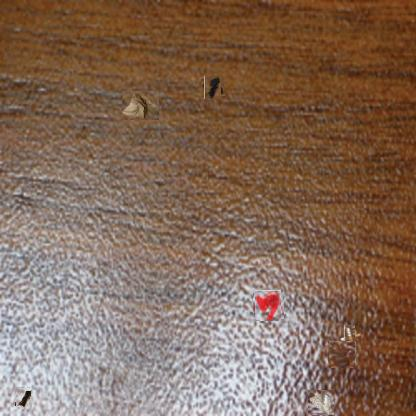dirty: (121, 90, 159, 120), (308, 390, 334, 416), (203, 77, 223, 98), (15, 387, 31, 409), (342, 329, 358, 346)
liquid: (254, 292, 283, 320), (328, 340, 356, 368)
